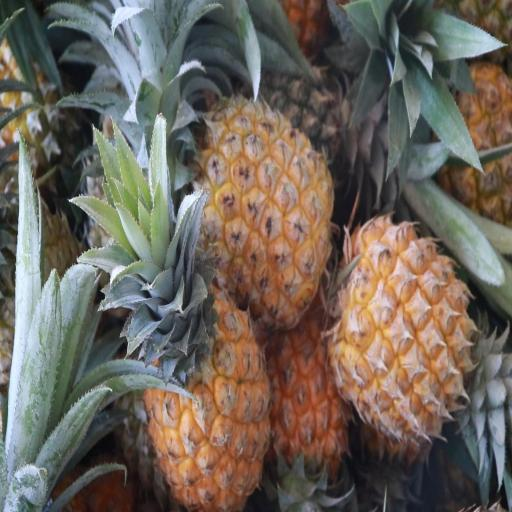Pineapple - v8 v1: (192, 95, 334, 333), (334, 218, 476, 446), (144, 265, 271, 508), (268, 318, 352, 505)
